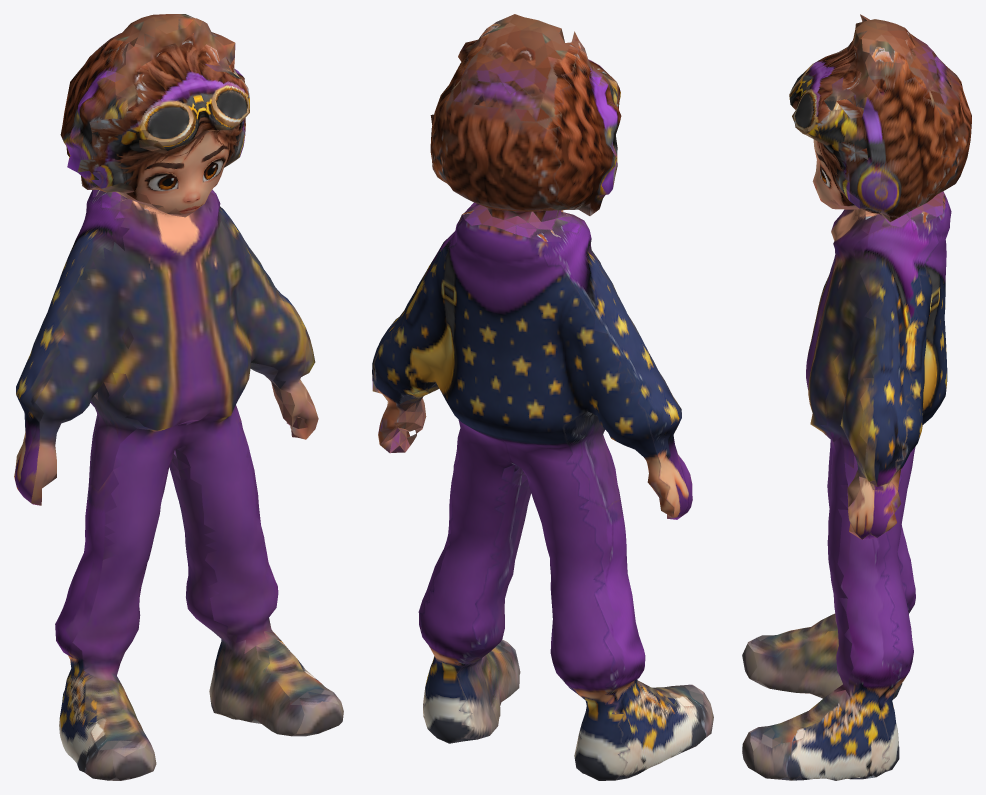
File: starlight-echo-toon.glb
The picture shows the model from 3 angles, left to right: view 1: azimuth 30°, elevation 25°; view 2: azimuth 150°, elevation 25°; view 3: azimuth 270°, elevation 25°; orthographic projection. The views are drawn at different scales.
Visible parts, largest first — view 1: world; view 2: world; view 3: world.
Boxes of the visible parts, bbox=[...] form: world: bbox=[14, 14, 343, 780]; world: bbox=[372, 14, 713, 780]; world: bbox=[742, 14, 971, 780].
Size of the model in its own units: 0.4164 by 0.9388 by 0.2767.
1 material, 1 textured.
